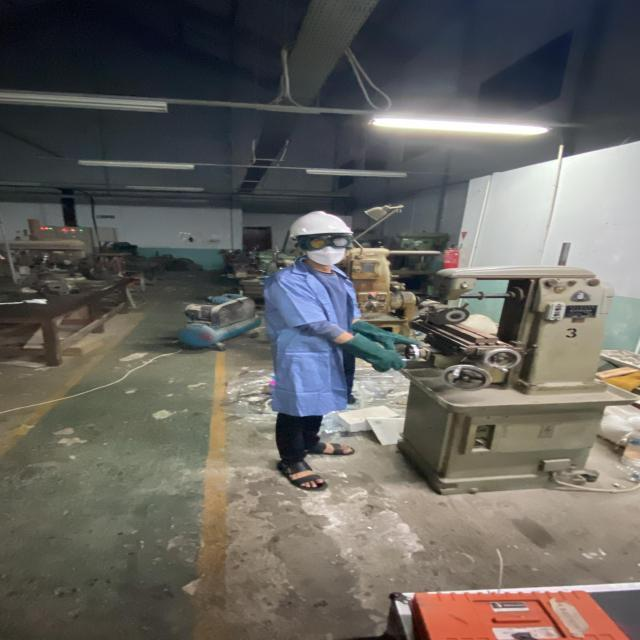glasses: (291, 232, 358, 250)
